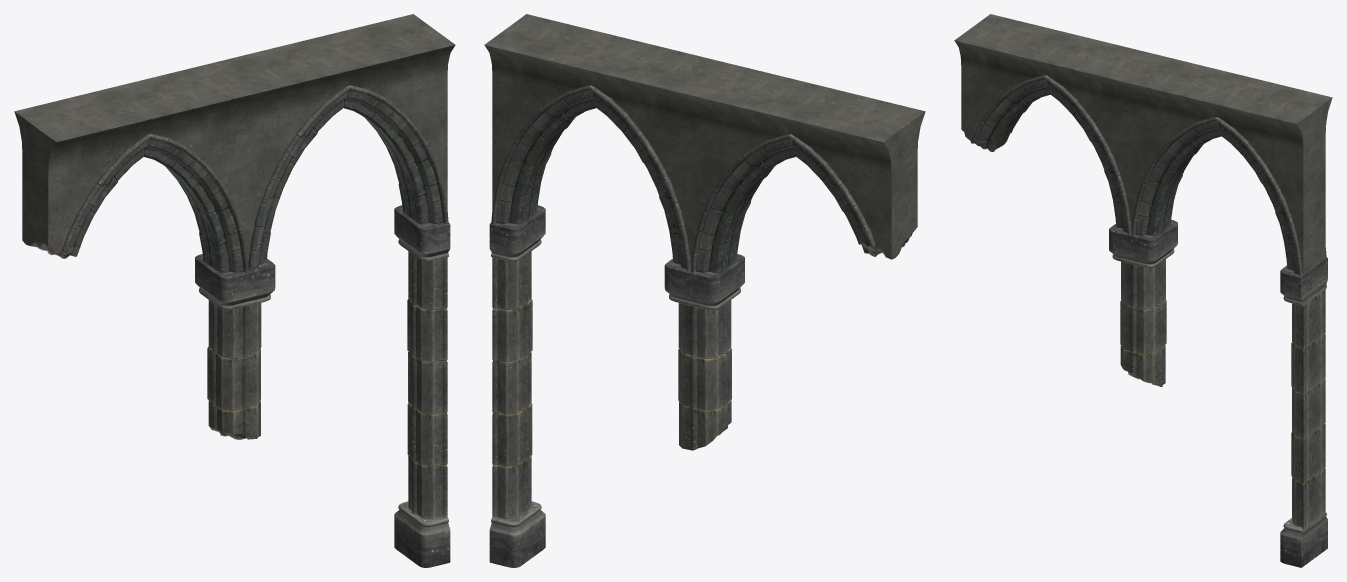
3 views of the same model, side by side, from view 1: azimuth 30°, elevation 25°; view 2: azimuth 150°, elevation 25°; view 3: azimuth 330°, elevation 25° (orthographic). The views are drawn at different scales.
Visible parts, largest first — view 1: SM_SaradominTemple_Arch_dmg_12x16_01_v2_LOD0; view 2: SM_SaradominTemple_Arch_dmg_12x16_01_v2_LOD0; view 3: SM_SaradominTemple_Arch_dmg_12x16_01_v2_LOD0.
Part boxes in pixels (left/top/right/bottom): SM_SaradominTemple_Arch_dmg_12x16_01_v2_LOD0: left=14, top=14, right=455, bottom=567; SM_SaradominTemple_Arch_dmg_12x16_01_v2_LOD0: left=484, top=14, right=925, bottom=567; SM_SaradominTemple_Arch_dmg_12x16_01_v2_LOD0: left=954, top=14, right=1332, bottom=567.
Size of the model in its own units: 12 by 15 by 2.2.
Materials: 4 (4 with a texture image).
